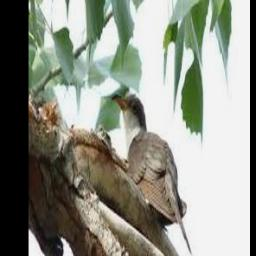Cuckoo: (112, 92, 192, 256)
